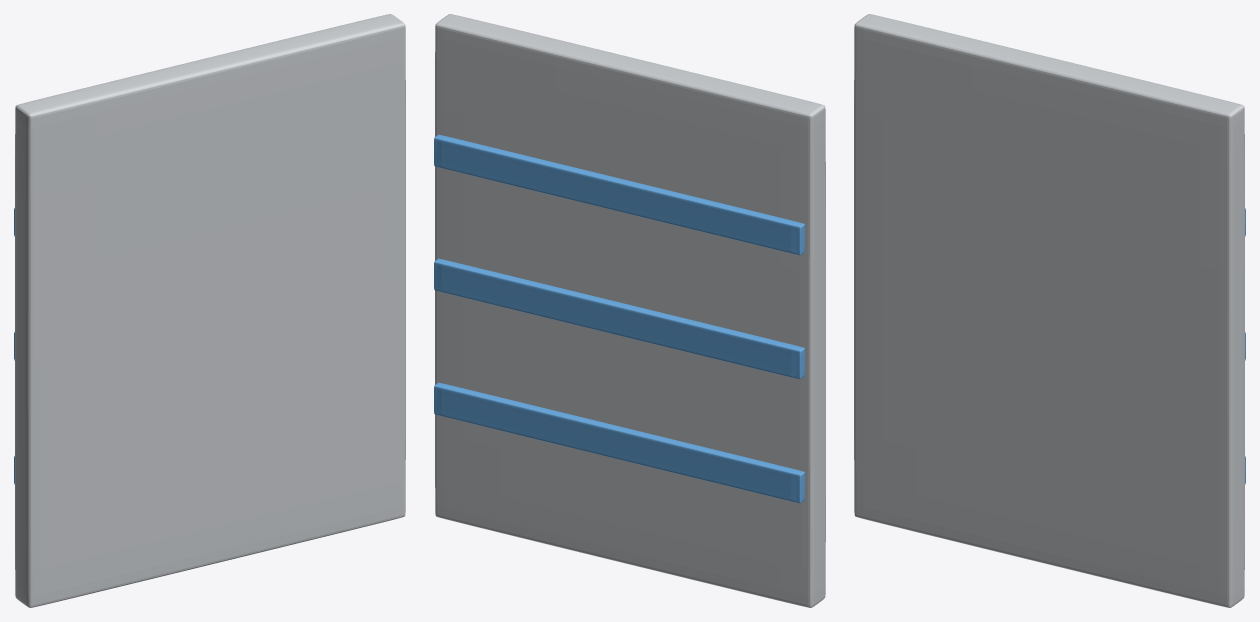
Rendered from Toy_WallPanel_Hi.fbx.
The picture shows the model from 3 angles, left to right: view 1: azimuth 30°, elevation 25°; view 2: azimuth 150°, elevation 25°; view 3: azimuth 330°, elevation 25°; orthographic projection.
Parts seen in each view (by area): view 1: Cube; view 2: Cube, Cube.001, Cube.002, Cube.003; view 3: Cube.
Boxes of the visible parts, bbox=[...] form: Cube: bbox=[15, 14, 405, 607]; Cube: bbox=[435, 14, 825, 607]; Cube.001: bbox=[434, 382, 804, 503]; Cube.002: bbox=[434, 258, 804, 379]; Cube.003: bbox=[434, 134, 804, 255]; Cube: bbox=[854, 14, 1244, 607].
Size of the model in its own units: 1.6 by 2 by 0.1607.
